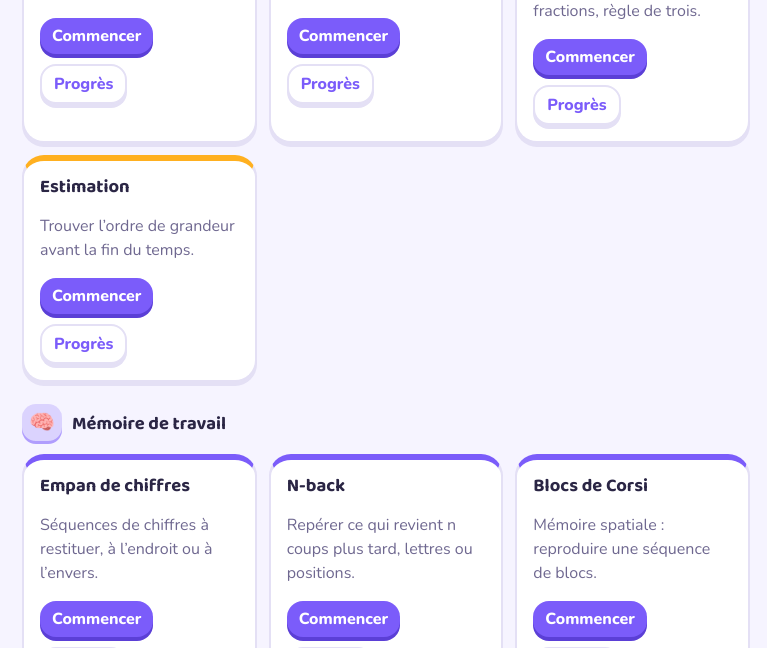
Test case: every exercise › Estimation opens, runs for a while and can be quit
(page scrolled)
Click the 4th button "Commencer". click: (97,296)
box: [40,278,154,314]
(page scrolled)
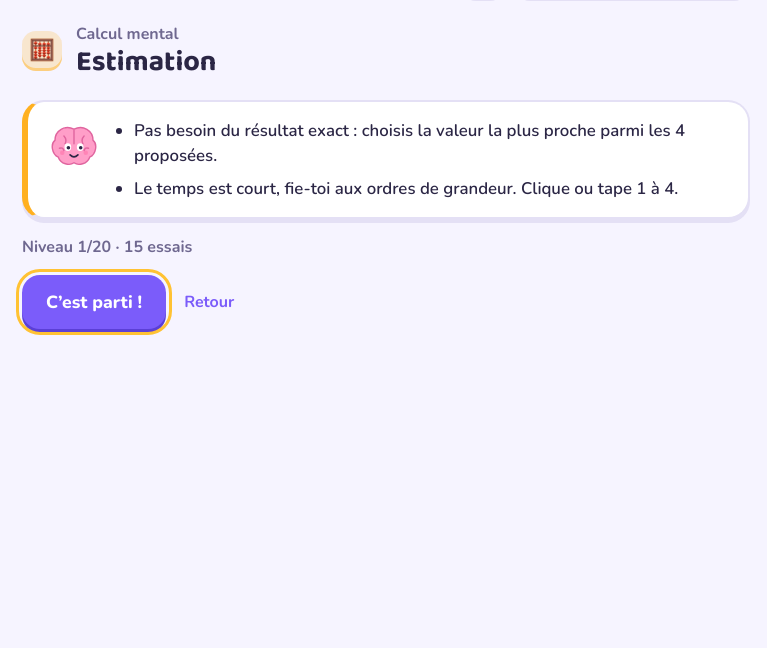
Click the button "C’est parti !". click: (94,302)
box: [22,275,166,330]
Wait 20000 ms
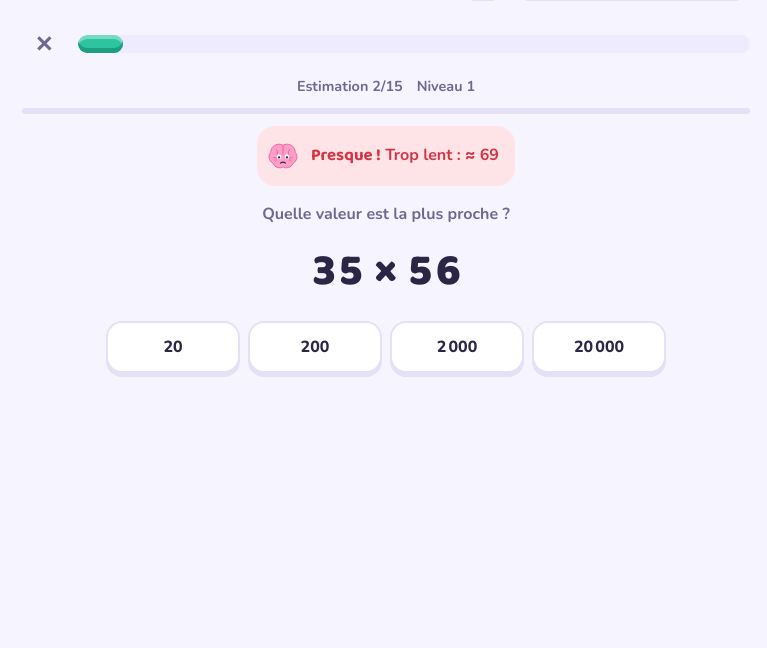
Result: the text "Niveau 1" is shown at [417,76,475,98]
Result: the button named "Abandonner" is shown
Click the button named "Abandonner". click: (44,44)
box: [22,22,66,66]
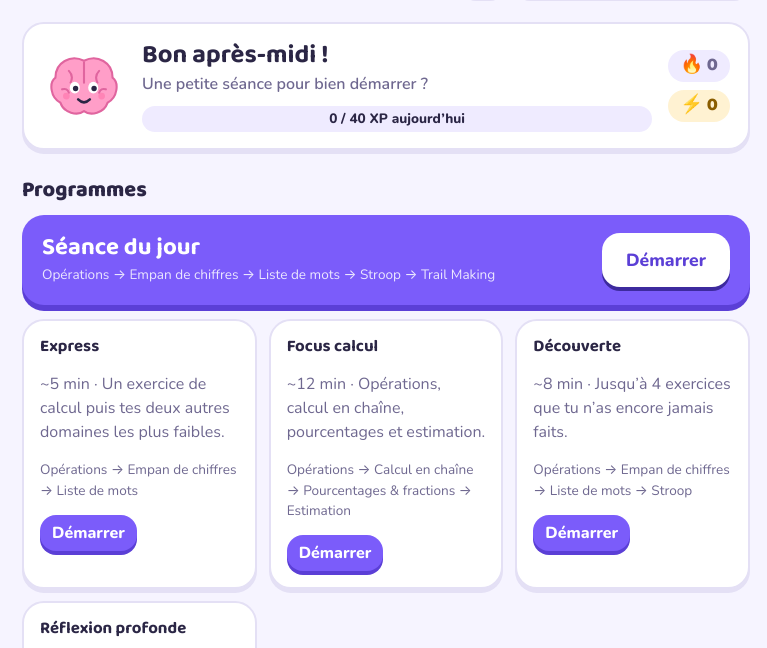
Result: the heading "Programmes" is shown at [22,173,147,207]
